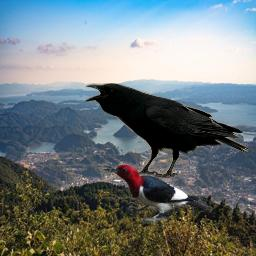Crow: (85, 83, 249, 179)
Woodpecker: (98, 161, 213, 225)
